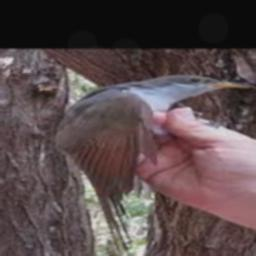Cuckoo: (55, 75, 253, 253)
